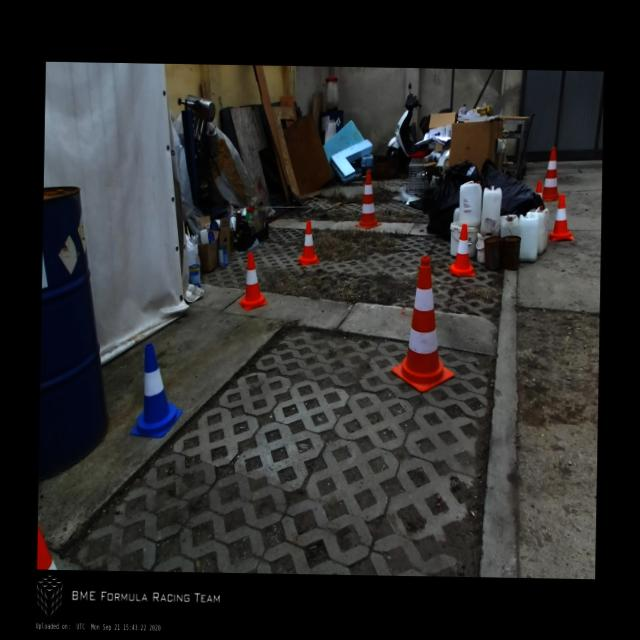blue_cone: (130, 343, 182, 438)
large_orange_cone: (390, 256, 456, 396), (355, 170, 382, 229)
orange_cone: (238, 250, 266, 310), (449, 224, 475, 276), (549, 193, 574, 240), (298, 220, 320, 266), (542, 146, 560, 200), (534, 180, 542, 198)
